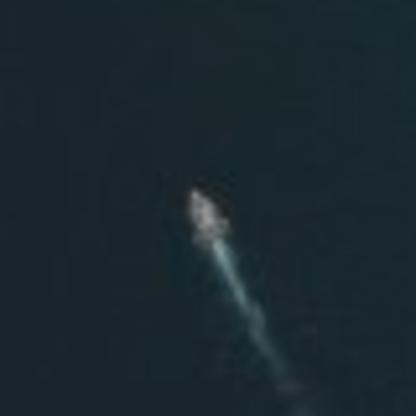ship: (179, 180, 226, 242)
